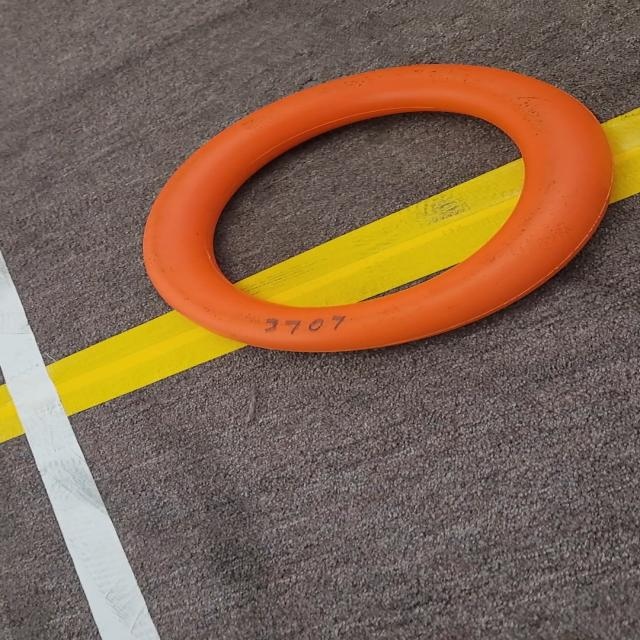note: (128, 60, 638, 362)
